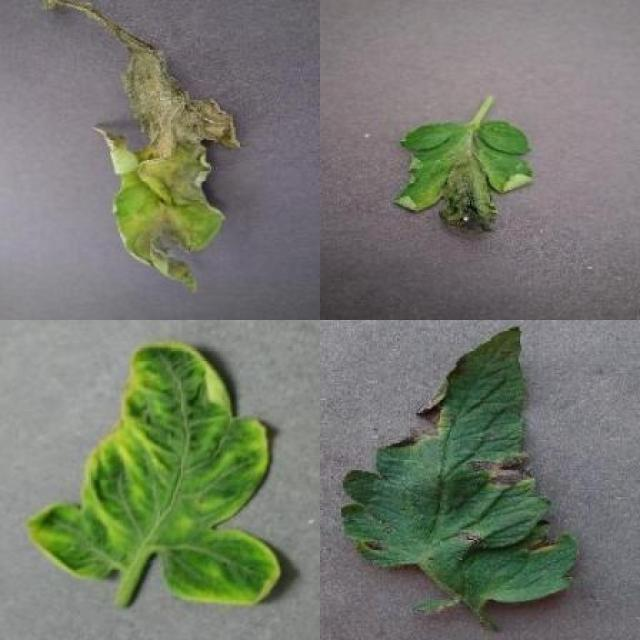Early Blight: (346, 324, 578, 612)
Late Blight: (43, 0, 243, 293), (396, 120, 538, 240)
Yellow Leaf Curl Virus: (23, 340, 284, 606)
